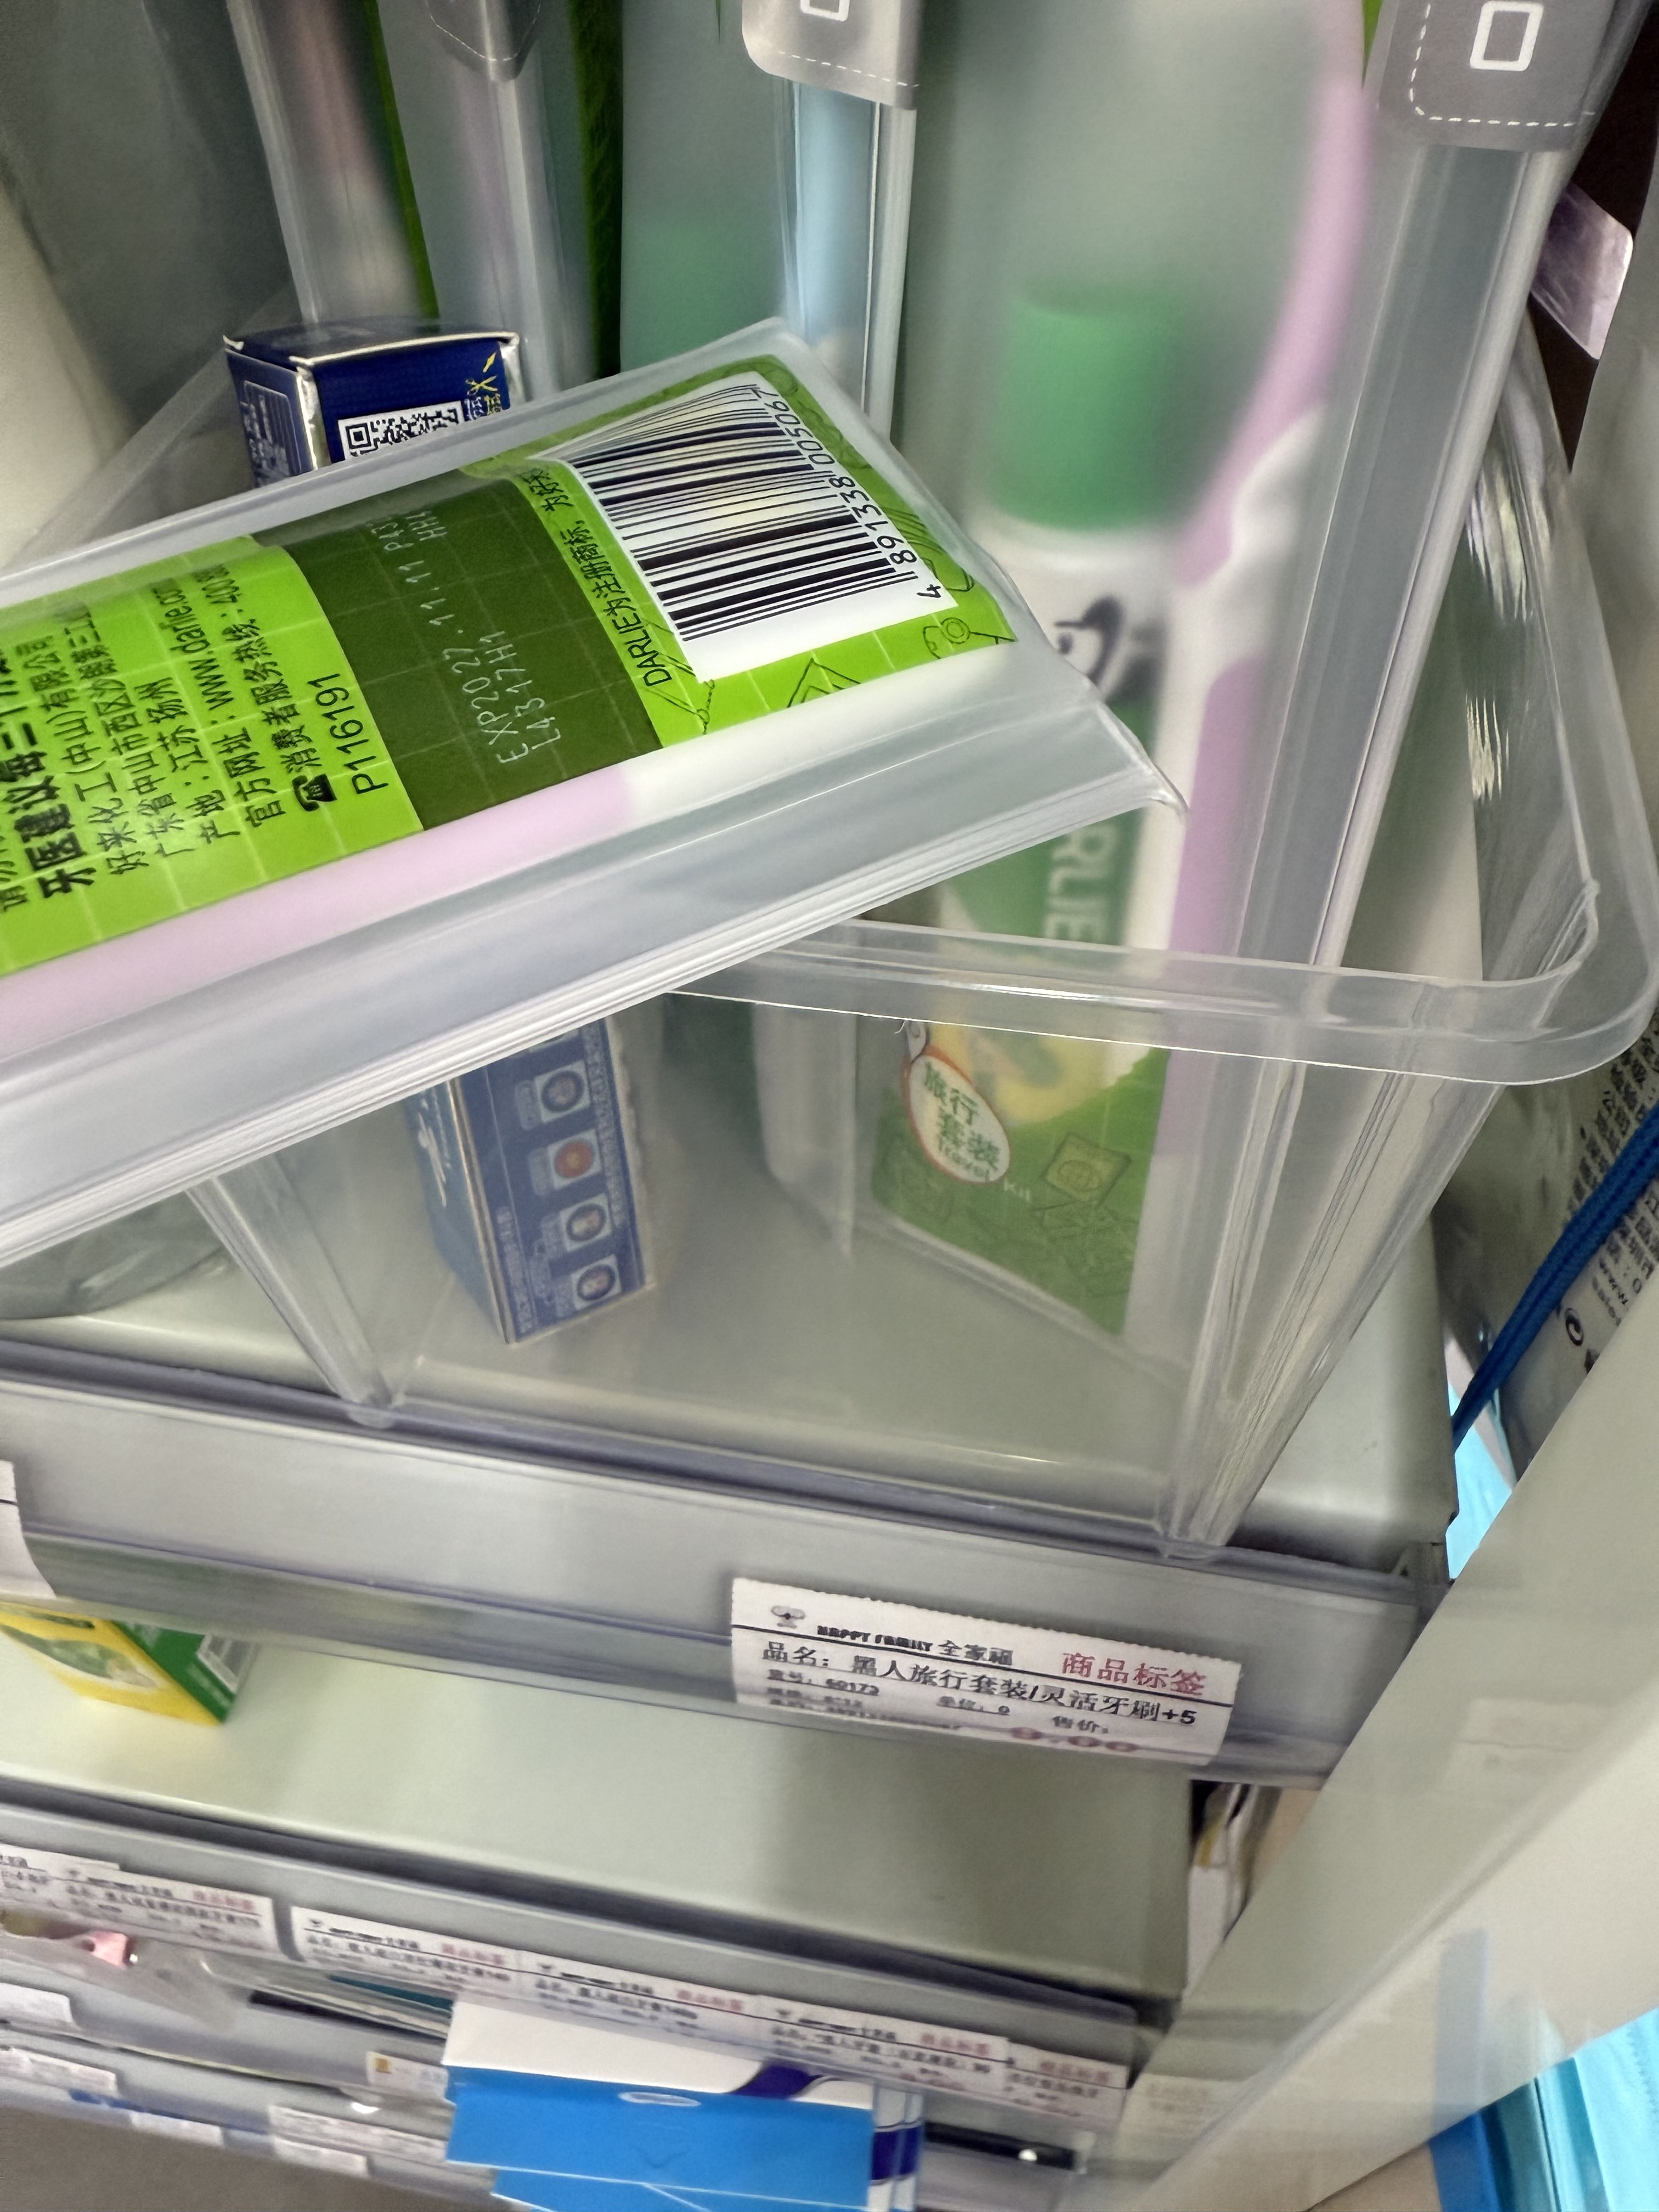bar: (530, 374, 925, 651)
